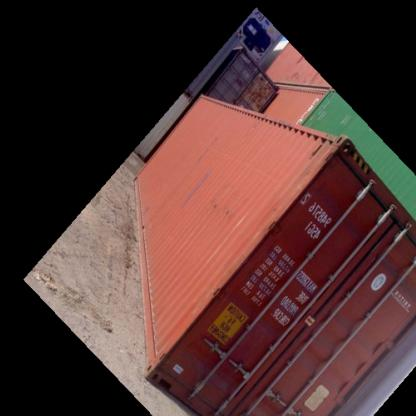Damage: (180, 167, 204, 207), (191, 126, 218, 160), (206, 194, 238, 222)
